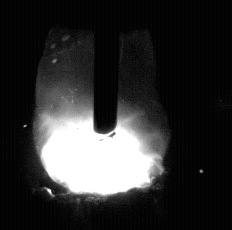arame: (94, 0, 119, 134)
poca: (34, 0, 169, 230)
